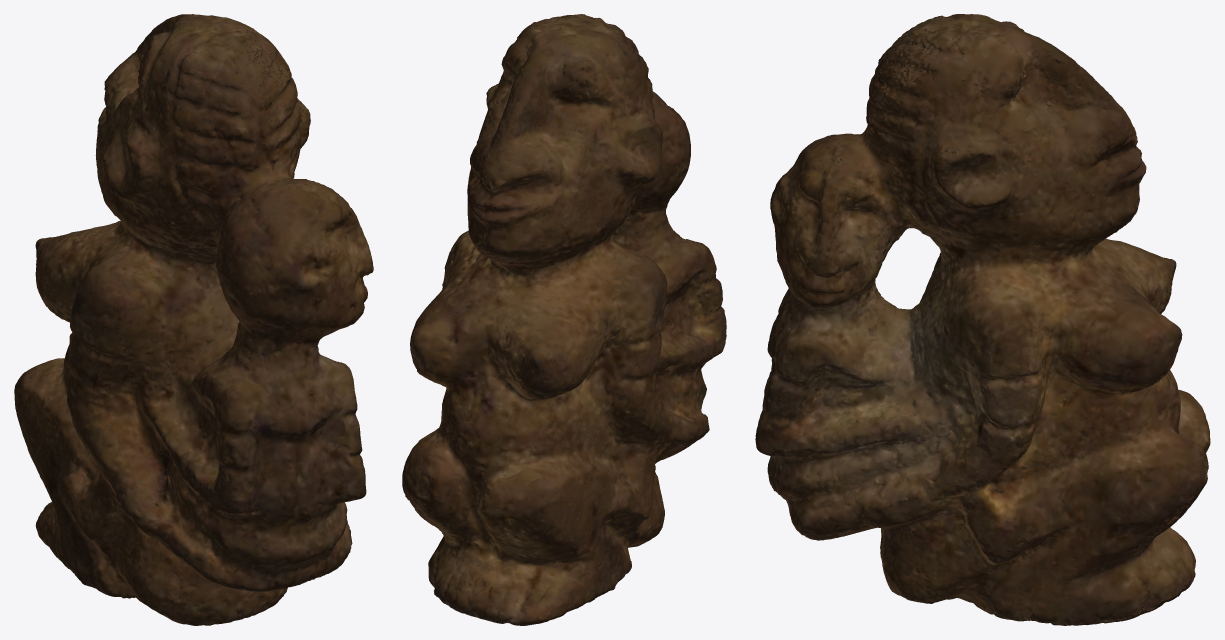
File: preview.glb
The picture shows the model from 3 angles, left to right: view 1: azimuth 30°, elevation 25°; view 2: azimuth 150°, elevation 25°; view 3: azimuth 270°, elevation 25°; orthographic projection. The views are drawn at different scales.
Parts seen in each view (by area): view 1: Object_2; view 2: Object_2; view 3: Object_2.
Part boxes in pixels (x1,y1,x2,y2): Object_2: [14, 14, 373, 625]; Object_2: [402, 14, 726, 625]; Object_2: [755, 14, 1210, 625].
Size of the model in its own units: 77.23 by 184 by 134.
1 material, 1 textured.
